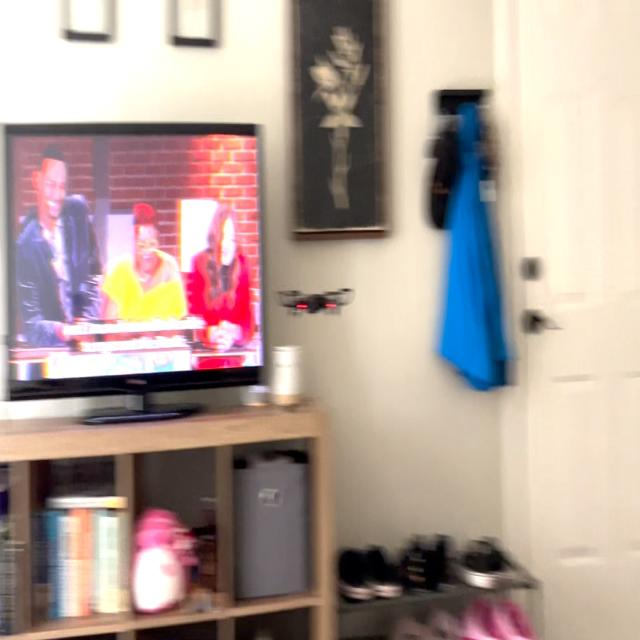drone: (267, 252, 364, 339)
